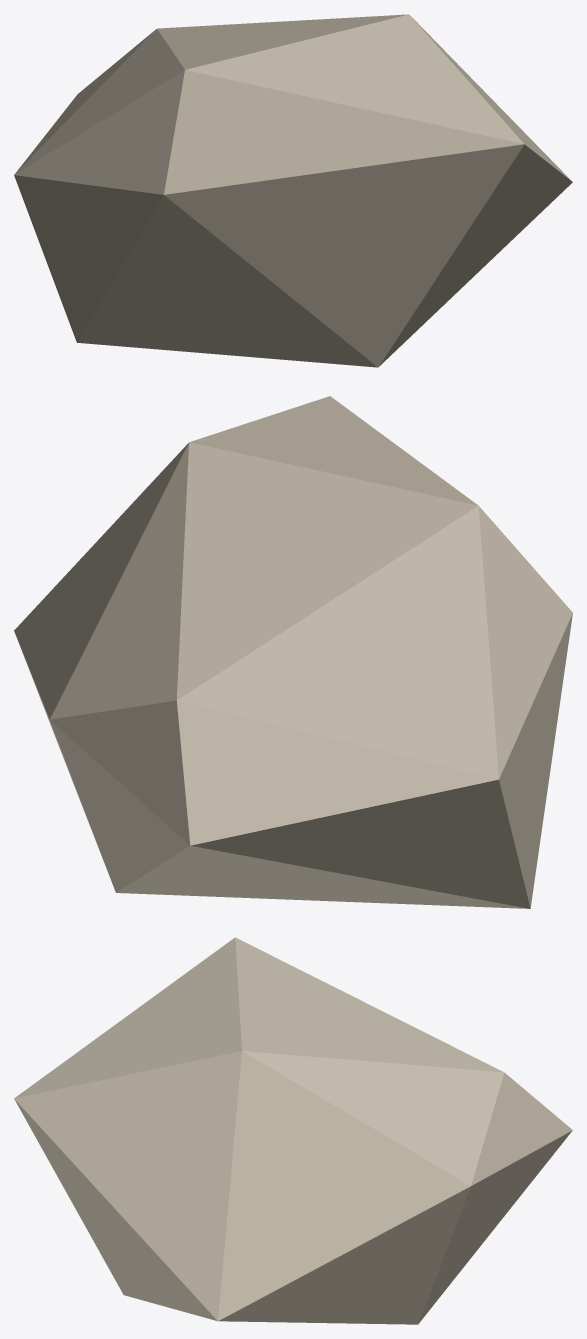
The model's file is Rock 5.fbx.
3 views of the same model, one above another, from view 1: azimuth 30°, elevation 25°; view 2: azimuth 150°, elevation 25°; view 3: azimuth 270°, elevation 25° (orthographic). The views are drawn at different scales.
Visible parts, largest first — view 1: Rock 5; view 2: Rock 5; view 3: Rock 5.
Part boxes in pixels (x1=…): Rock 5: x1=14, y1=14, x2=572, y2=367; Rock 5: x1=14, y1=396, x2=572, y2=908; Rock 5: x1=14, y1=937, x2=572, y2=1324.
Size of the model in its own units: 195 by 114 by 199.
